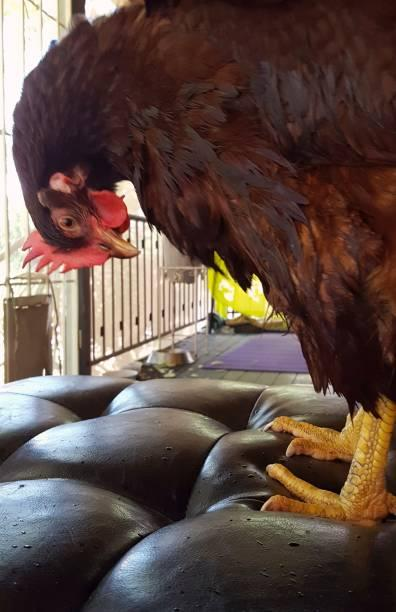AbNormal: (0, 0, 396, 537)
